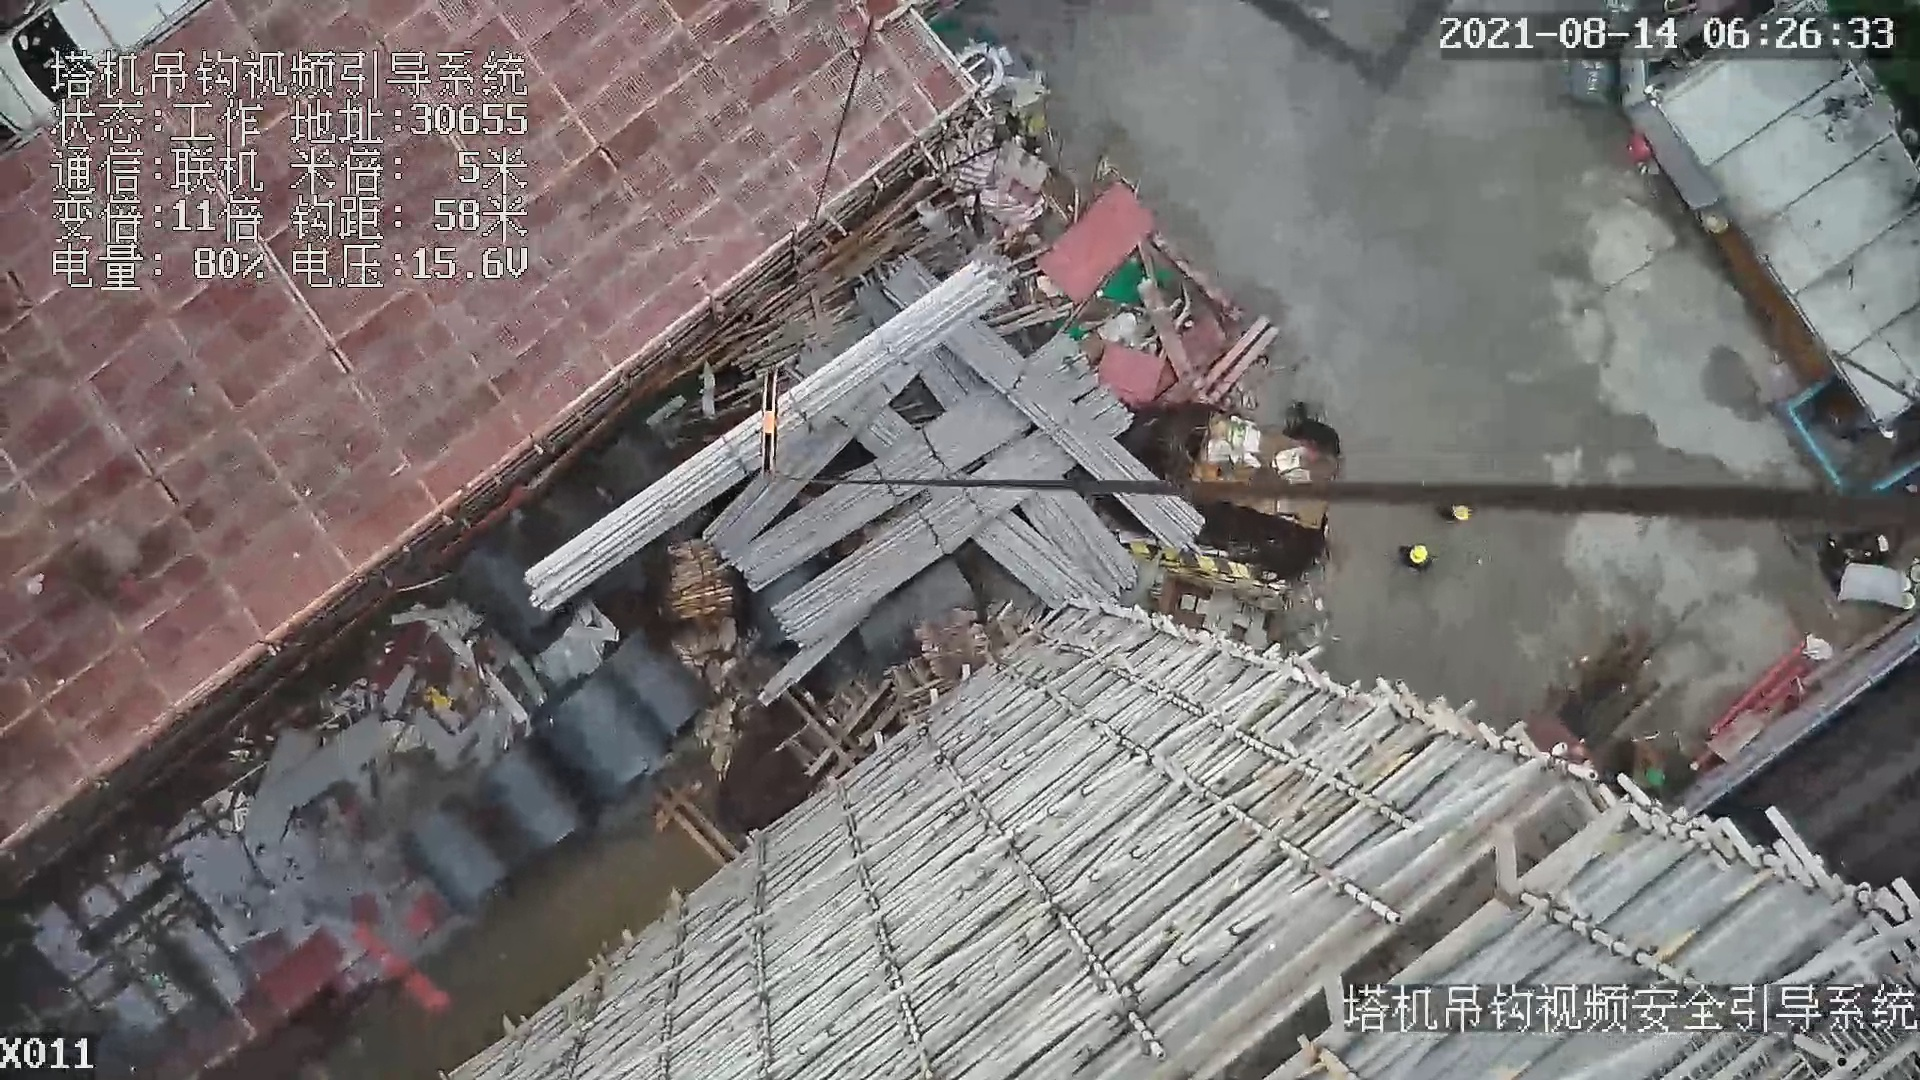helmet: (1409, 544, 1425, 564)
hook: (749, 365, 796, 486)
person: (1391, 540, 1435, 564)
